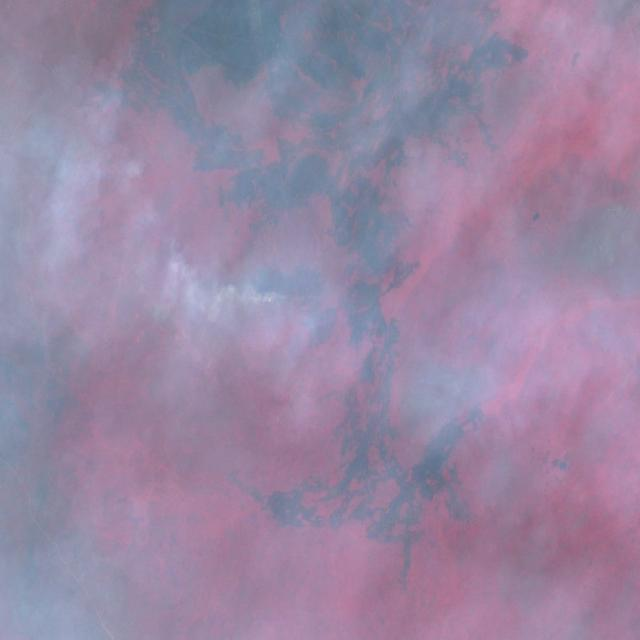fire: (240, 253, 330, 315)
